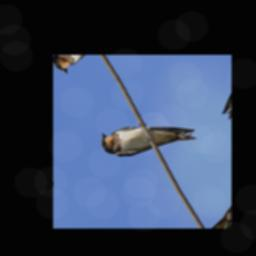Swallow: (95, 91, 199, 182)
